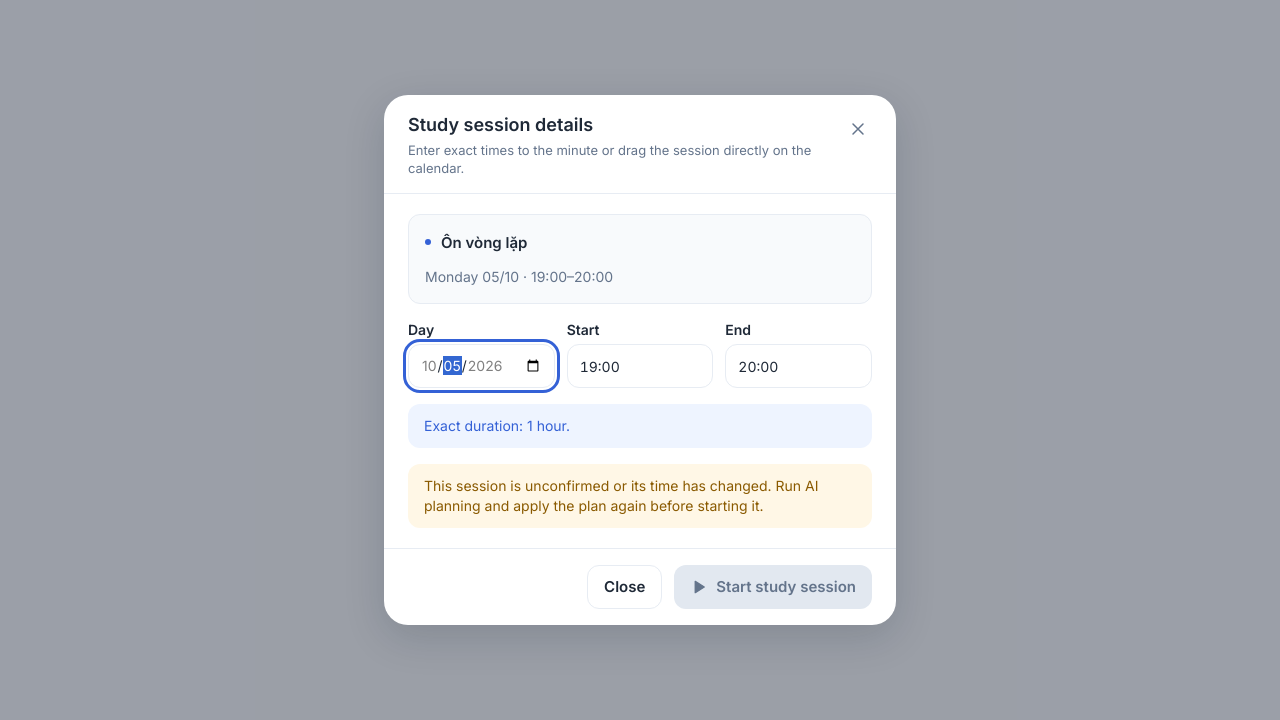
Test: StudyBlockDialog › renders dynamic validation and status messages entirely in English
expect the text "This session is unconfirmed or its time has changed. Run AI planning and apply the plan again before starting it." is shown: met, box x1=424 y1=477 x2=818 y2=514
Replace the text in the field labelled "Start" with "19:59" at (640, 366), box x1=567 y1=344 x2=713 y2=388
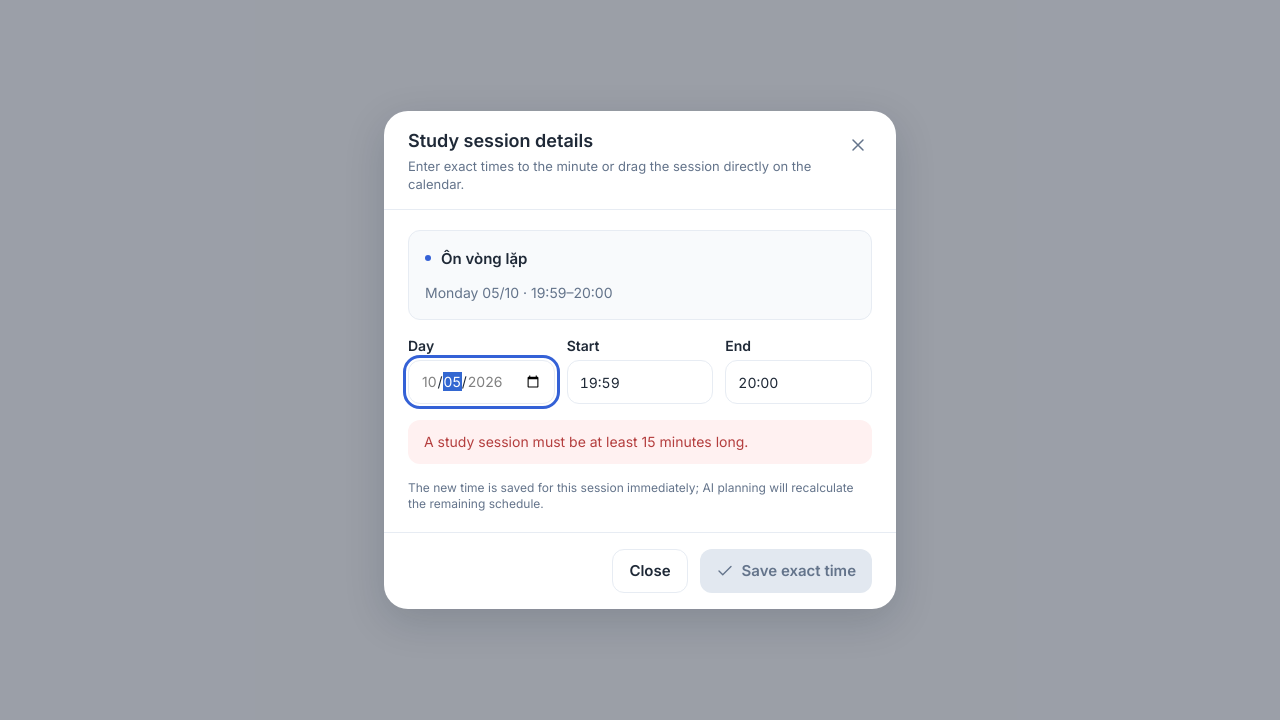
expect the text "A study session must be at least 15 minutes long." is shown: met, box x1=408 y1=420 x2=872 y2=464
expect the text "The new time is saved for this session immediately; AI planning will recalculate the remaining schedule." is shown: met, box x1=408 y1=480 x2=854 y2=511
